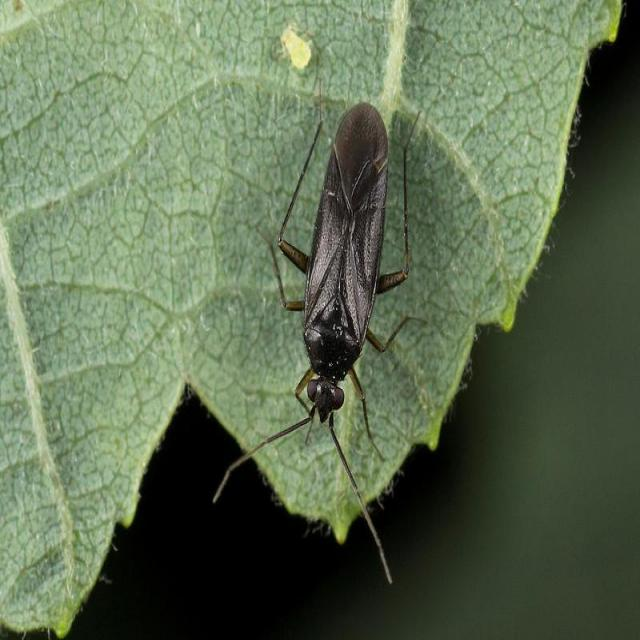Miridae-Adult-: (238, 86, 436, 509)
